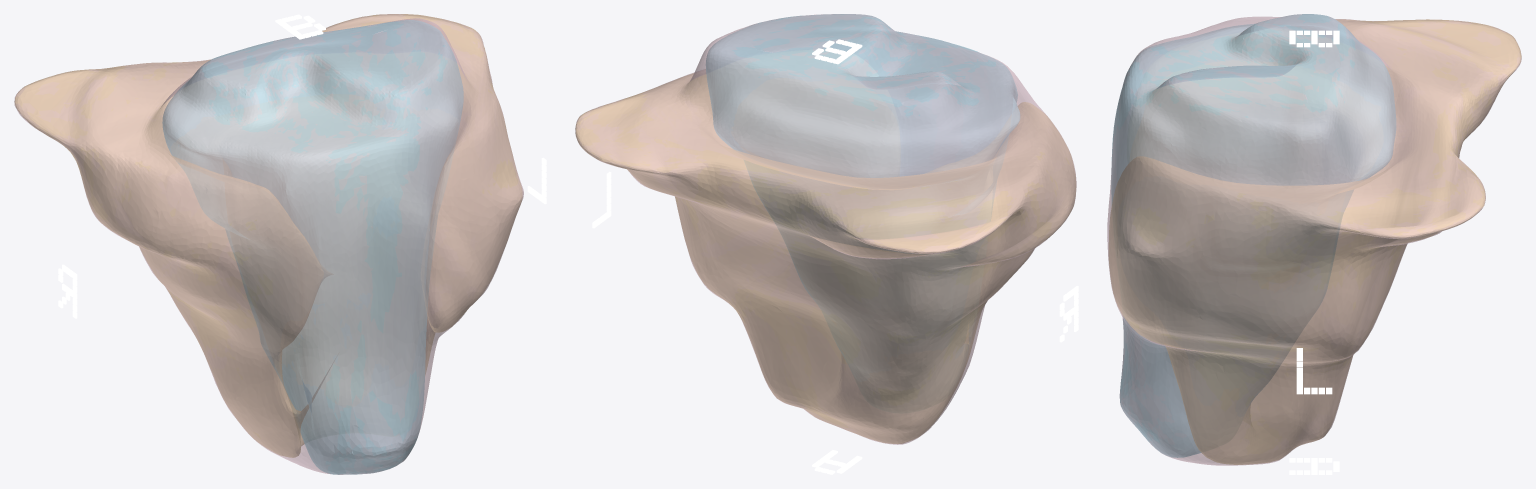
3 views of the same model, side by side, from view 1: azimuth 30°, elevation 25°; view 2: azimuth 150°, elevation 25°; view 3: azimuth 270°, elevation 25° (orthographic). The views are drawn at different scales.
Parts seen in each view (by area): view 1: prostate_gland, transition_zone, peripheral_zone, pv_ar_marker_B, pv_ar_marker_R; view 2: prostate_gland, peripheral_zone, transition_zone, pv_ar_marker_B, pv_ar_marker_R, pv_ar_marker_A; view 3: prostate_gland, peripheral_zone, transition_zone, pv_ar_marker_B, pv_ar_marker_L, pv_ar_marker_A.
Boxes of the visible parts, bbox=[...] form: prostate_gland: bbox=[14, 14, 523, 474]; transition_zone: bbox=[162, 20, 463, 474]; peripheral_zone: bbox=[15, 14, 522, 457]; pv_ar_marker_B: bbox=[275, 14, 325, 39]; pv_ar_marker_R: bbox=[58, 264, 77, 318]; prostate_gland: bbox=[575, 14, 1076, 444]; peripheral_zone: bbox=[575, 73, 1075, 443]; transition_zone: bbox=[706, 14, 1019, 362]; pv_ar_marker_B: bbox=[812, 39, 862, 64]; pv_ar_marker_R: bbox=[1059, 286, 1078, 342]; pv_ar_marker_A: bbox=[812, 450, 862, 474]; prostate_gland: bbox=[1107, 14, 1521, 465]; peripheral_zone: bbox=[1109, 19, 1521, 464]; transition_zone: bbox=[1111, 14, 1395, 457]; pv_ar_marker_B: bbox=[1289, 30, 1339, 47]; pv_ar_marker_L: bbox=[1296, 348, 1332, 394]; pv_ar_marker_A: bbox=[1289, 458, 1339, 474].
Size of the model in its own units: 0.0557 by 0.047 by 0.0411.
